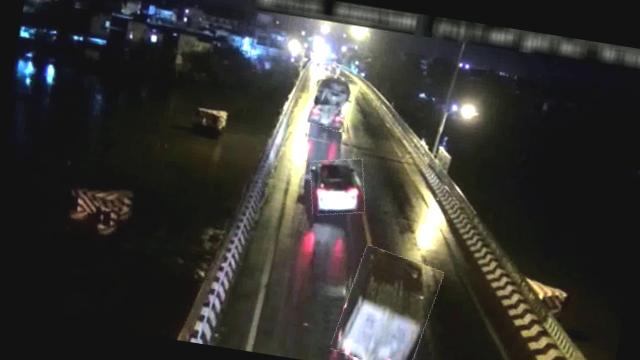Car: (304, 154, 370, 220)
Truck: (332, 245, 440, 360), (305, 70, 358, 132)
